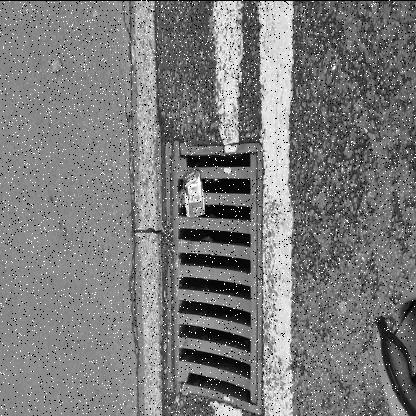cardboard: (184, 167, 206, 217)
